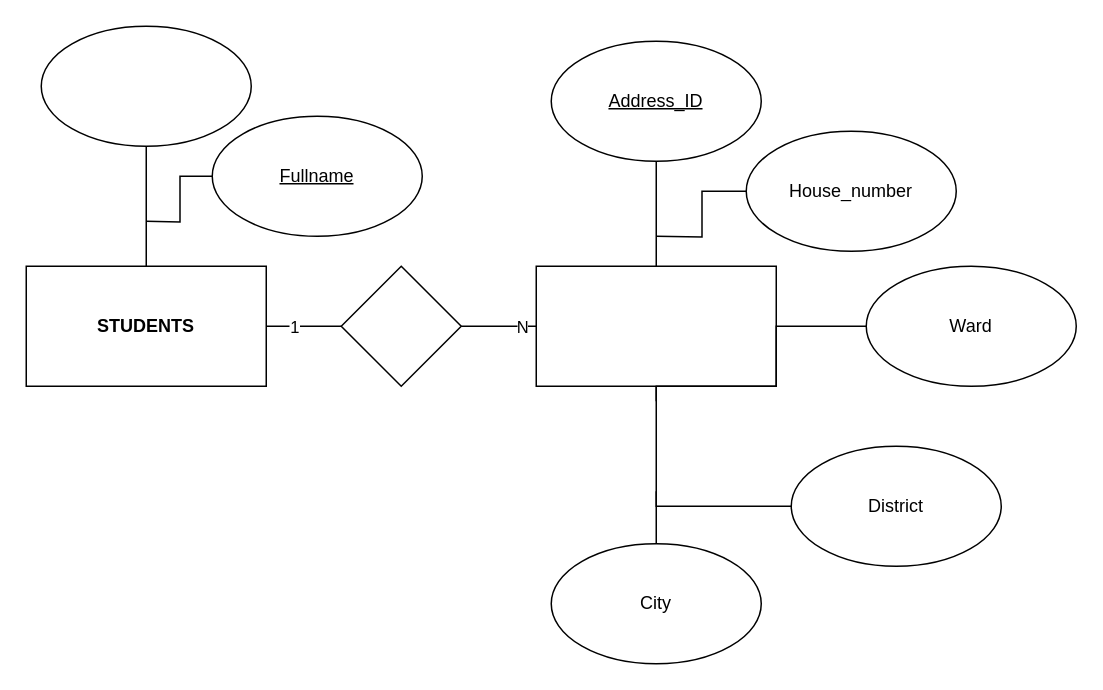
Image size: 1103x690. Some labels were removed from this diagram. Here are the shapes that lost their labels. From the top down, the box of each, then its label:
(40, 25, 251, 146): Student_ID
(340, 265, 461, 386): THÊM
(535, 265, 776, 386): ADDRESSES
